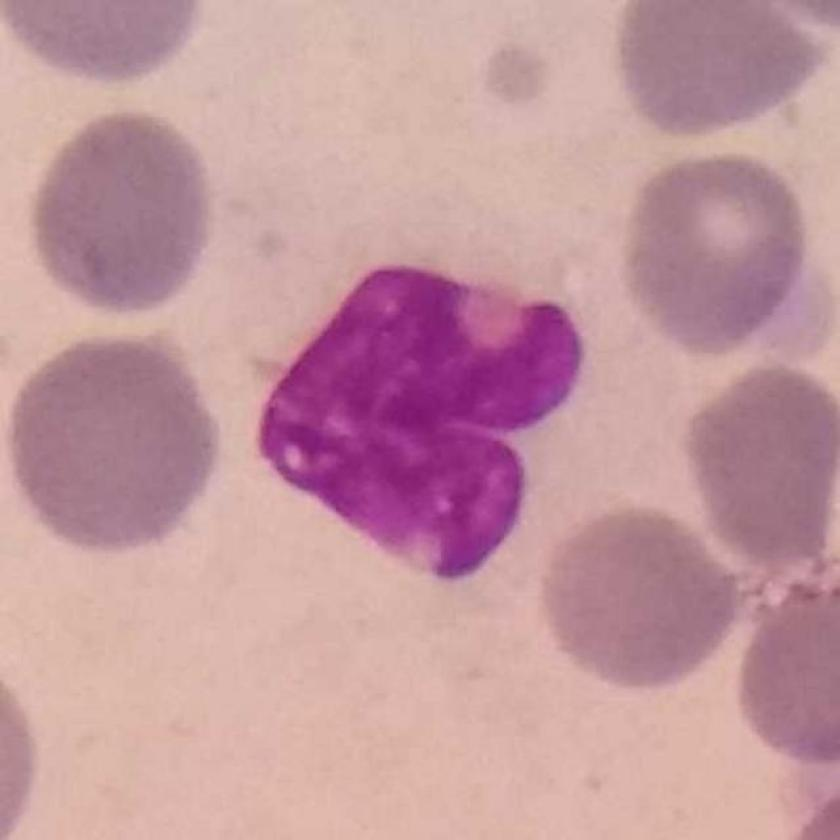monocyte: (247, 253, 601, 598)
